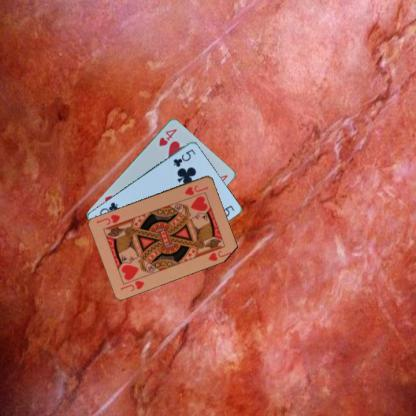4h: (156, 126, 178, 147)
5c: (170, 146, 196, 168)
Jh: (118, 278, 146, 292), (182, 182, 209, 196)
